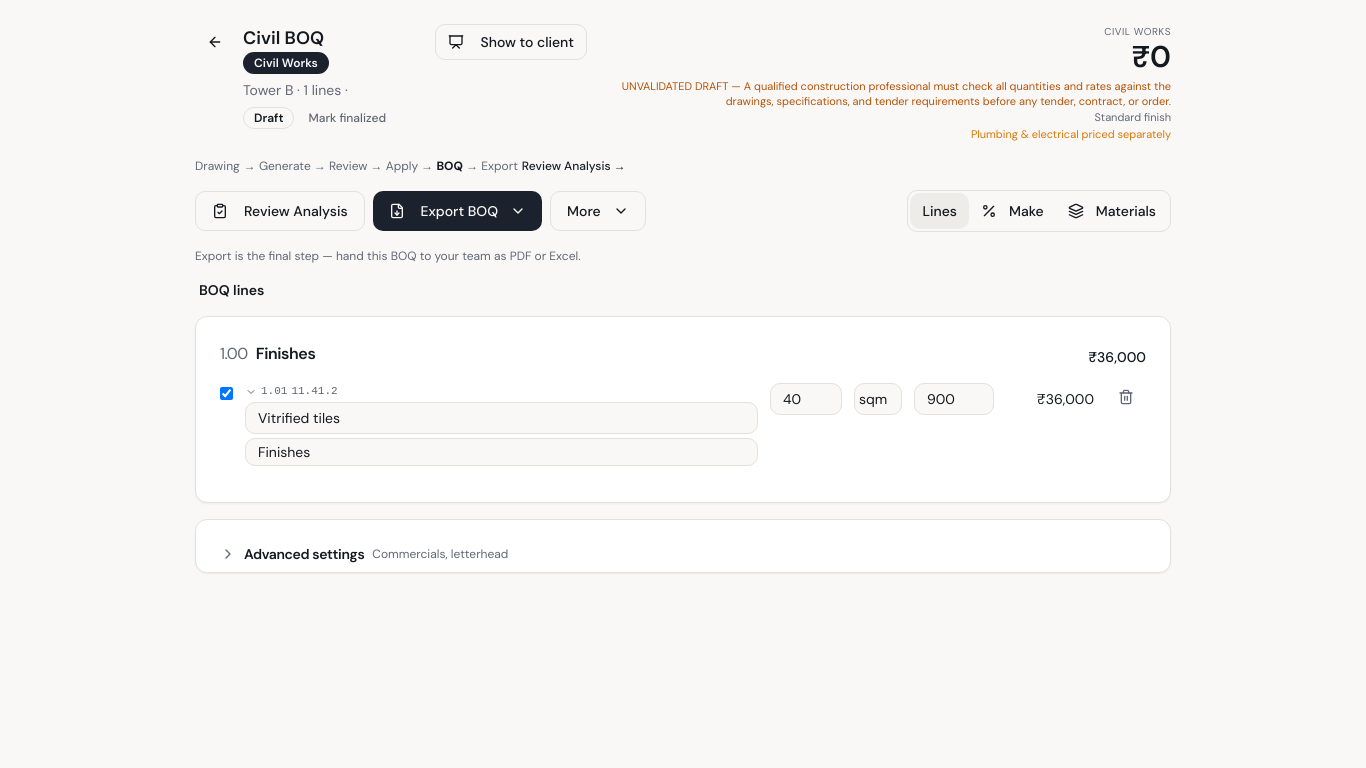
OpsBoqBuilder — unit field follows the saved value › edit → Undo: shows the restored value
This screenshot has width=1366, height=768.
Replace the text in the field named "Unit for Vitrified tiles" with "sqft" at [878, 399], box [854,383,902,415]
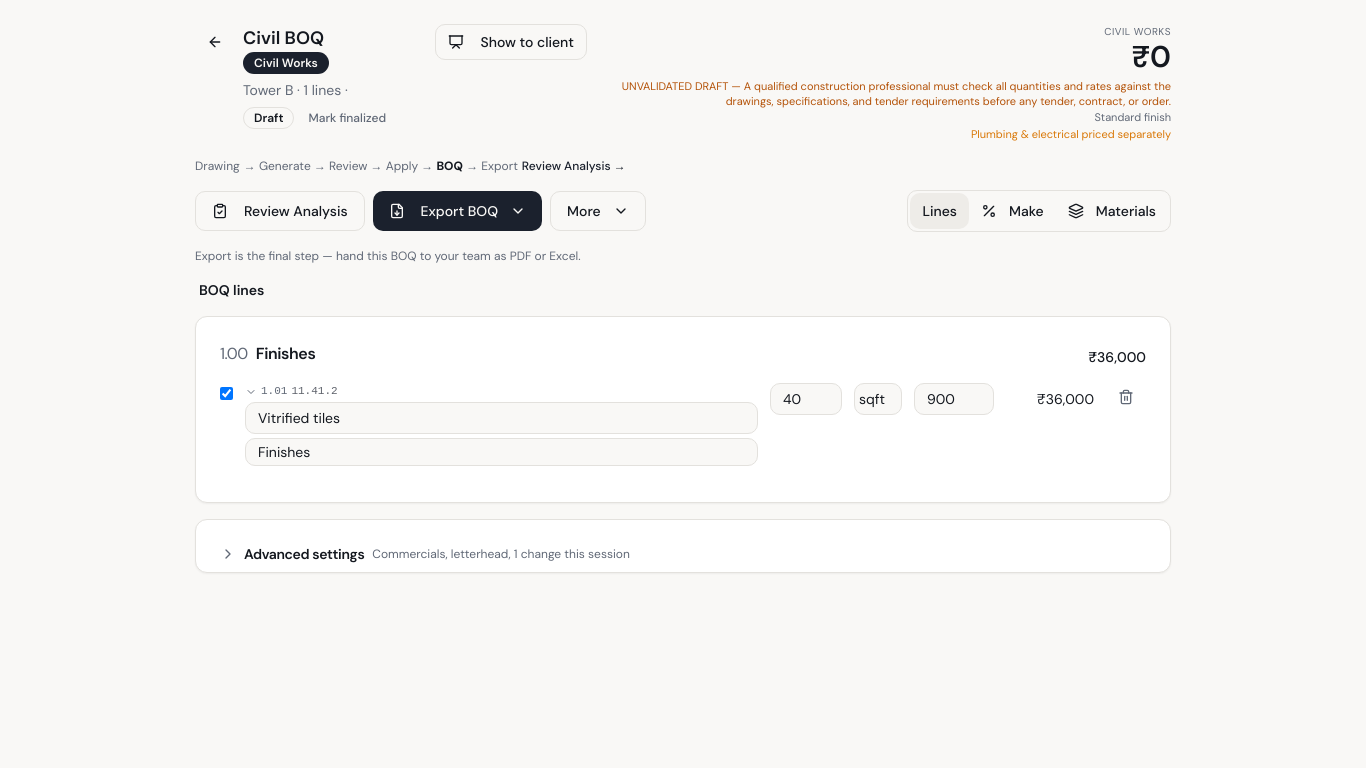
Click the text "Advanced settings" at [304, 554], box [244,544,364,564]
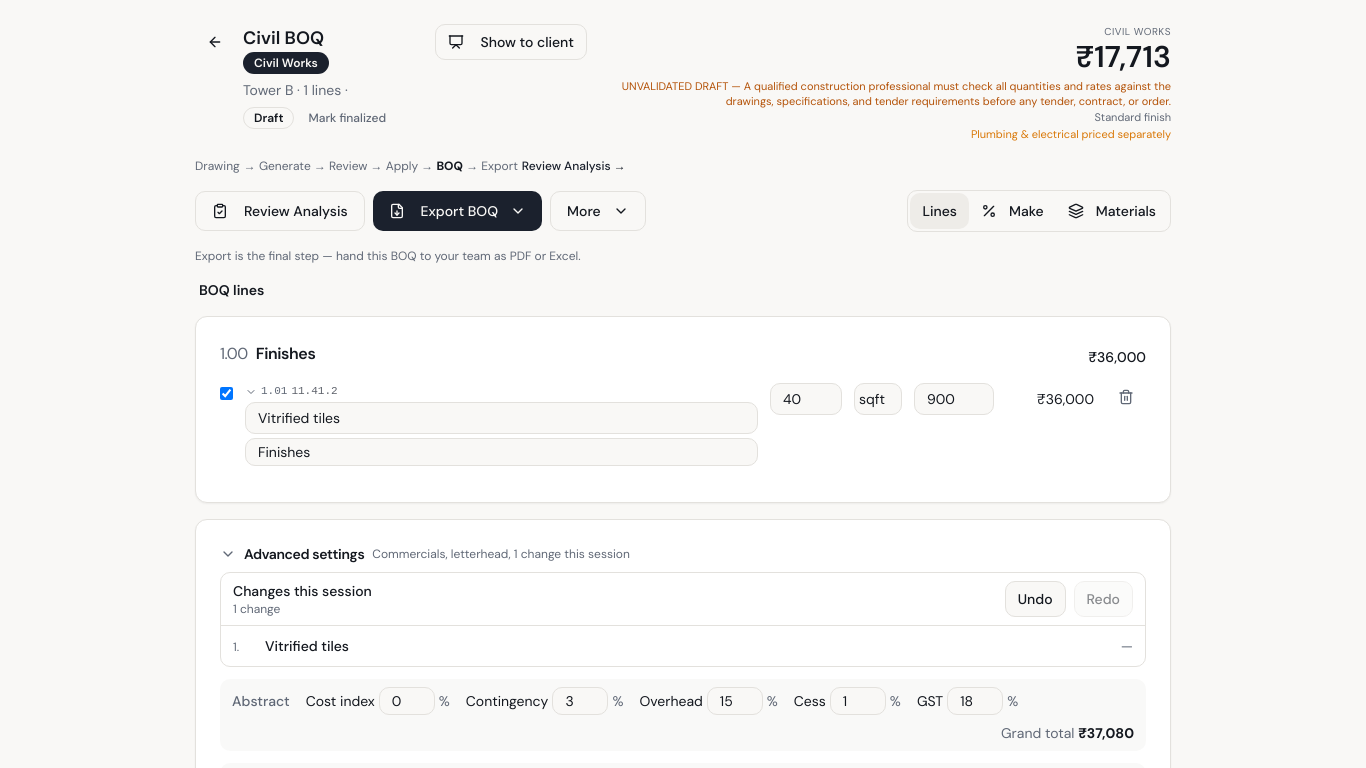
Click the button "Undo" at [1035, 599], box [1005,581,1066,617]
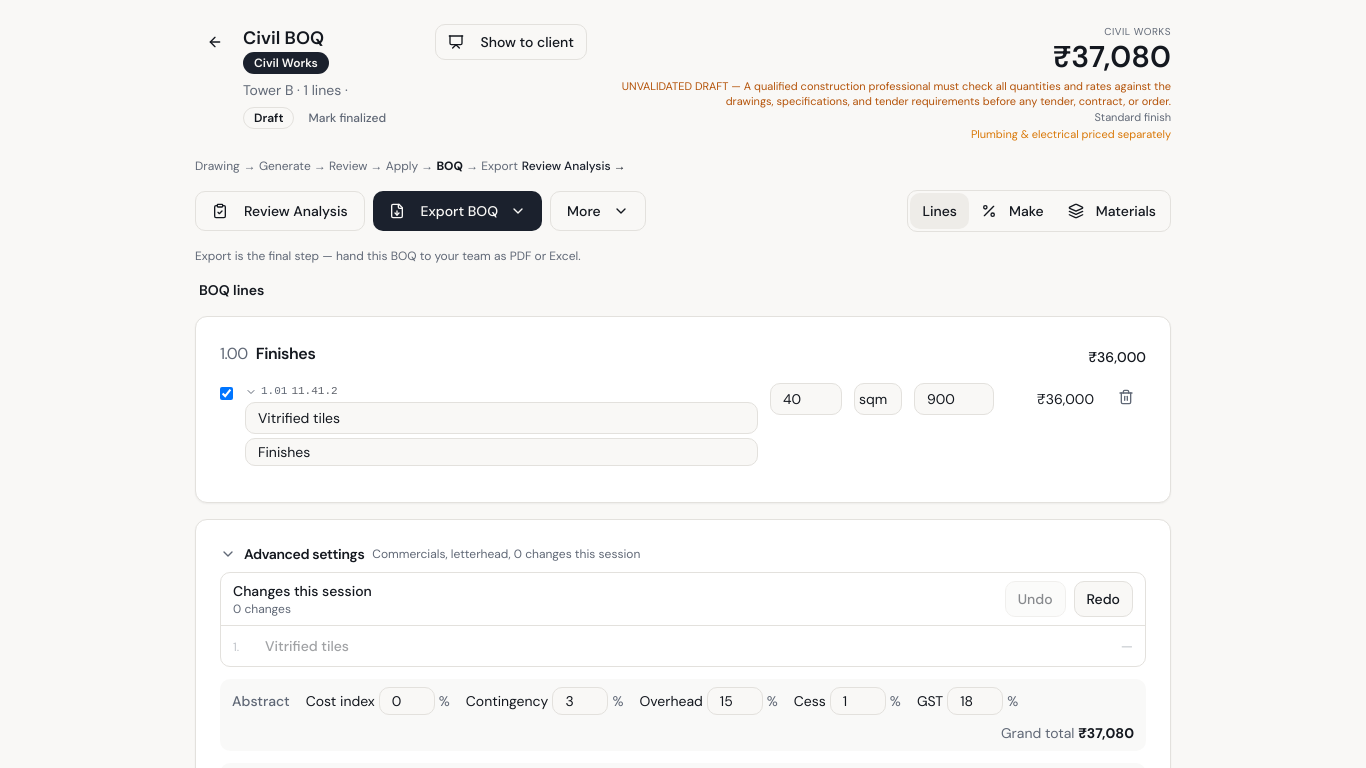
Result: the field named "Unit for Vitrified tiles" holds "sqm" at [854,383,902,415]
